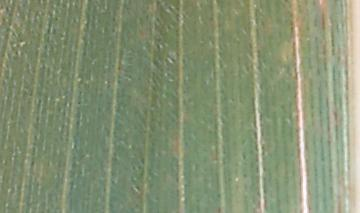tarspot: (71, 141, 79, 150), (110, 26, 115, 35), (111, 15, 116, 24), (76, 100, 82, 107), (54, 16, 58, 21), (281, 1, 290, 3)
